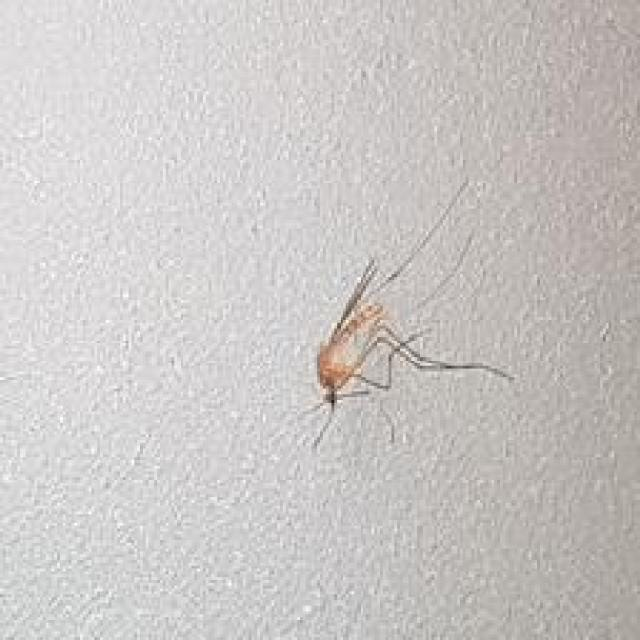Culex: (298, 176, 516, 450)
